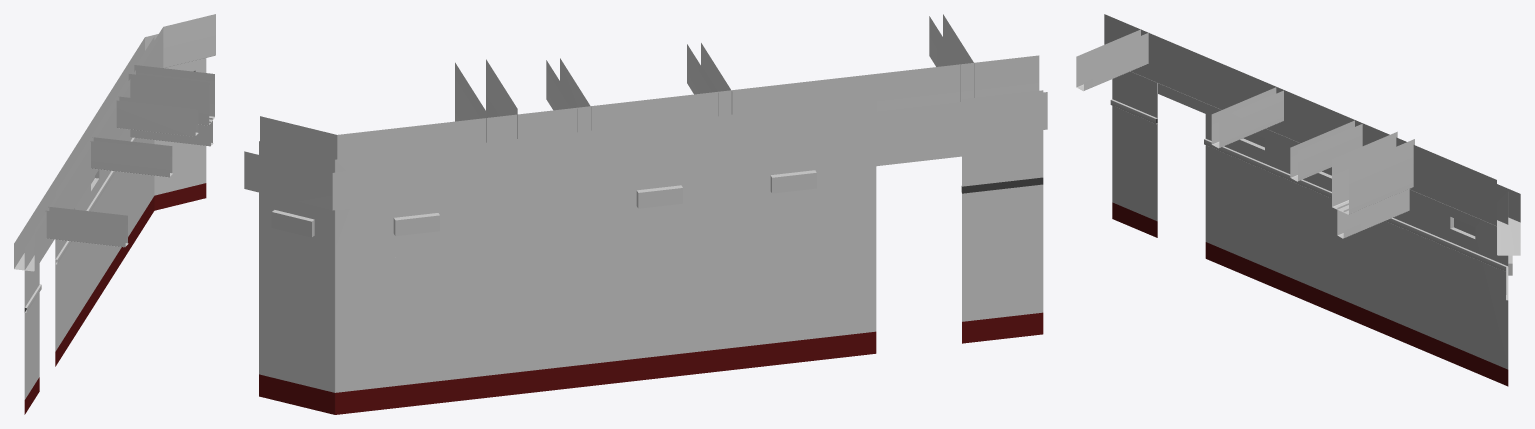
Rendered from SM_H_Building_Tide_Jail_D_01h_ATLAS.fbx.
3 renders of one model, left to right at view 1: azimuth 30°, elevation 25°; view 2: azimuth 150°, elevation 25°; view 3: azimuth 270°, elevation 25°, orthographic. The views are drawn at different scales.
Parts seen in each view (by area): view 1: SM_H_Building_Tide_Jail_D_01h_ATLAS; view 2: SM_H_Building_Tide_Jail_D_01h_ATLAS; view 3: SM_H_Building_Tide_Jail_D_01h_ATLAS.
Boxes of the visible parts, x1,y1,x2,y2 form: SM_H_Building_Tide_Jail_D_01h_ATLAS: (14, 14, 215, 414); SM_H_Building_Tide_Jail_D_01h_ATLAS: (244, 14, 1047, 414); SM_H_Building_Tide_Jail_D_01h_ATLAS: (1076, 14, 1520, 386).
Bounding box in the file's own units: 4668 × 4346 × 2309.
